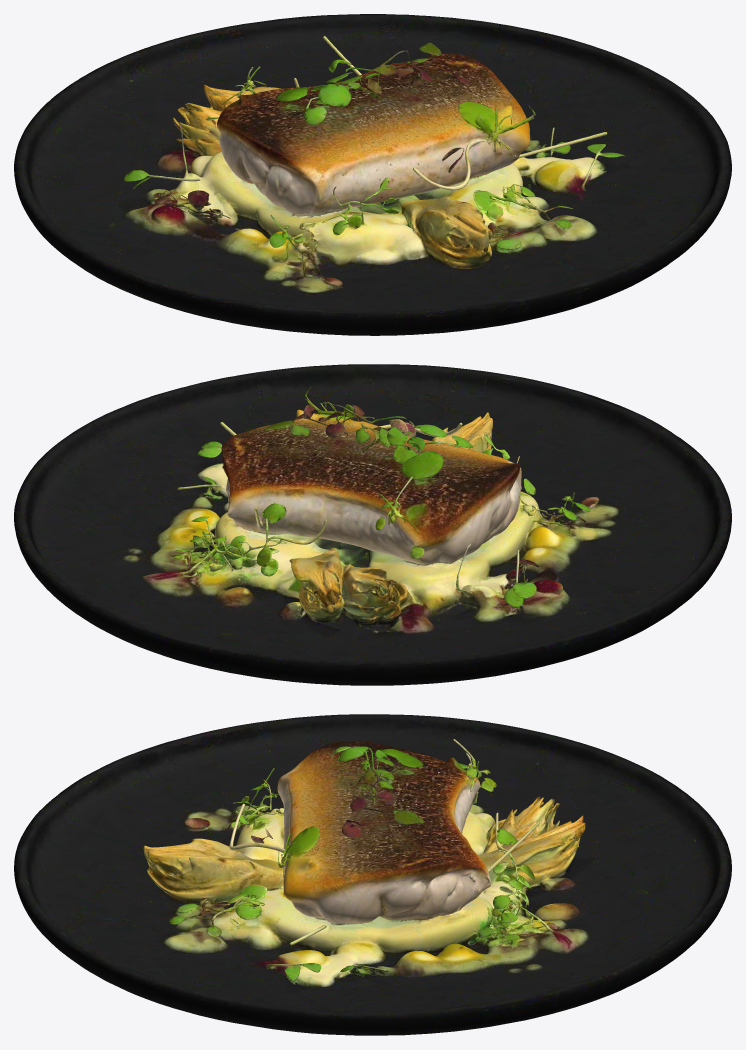
The model's file is bar-de-ligne-ar-lite-meshy.glb.
3 renders of one model, top to bottom at view 1: azimuth 30°, elevation 25°; view 2: azimuth 150°, elevation 25°; view 3: azimuth 270°, elevation 25°, orthographic.
Parts seen in each view (by area): view 1: node0; view 2: node0; view 3: node0.
Boxes of the visible parts, left/top/right/bottom form: node0: left=14, top=14, right=731, bottom=335; node0: left=14, top=364, right=731, bottom=685; node0: left=14, top=714, right=731, bottom=1035.
Bounding box in the file's own units: 0.2 × 0.0533 × 0.2.
1 material, 1 textured.
